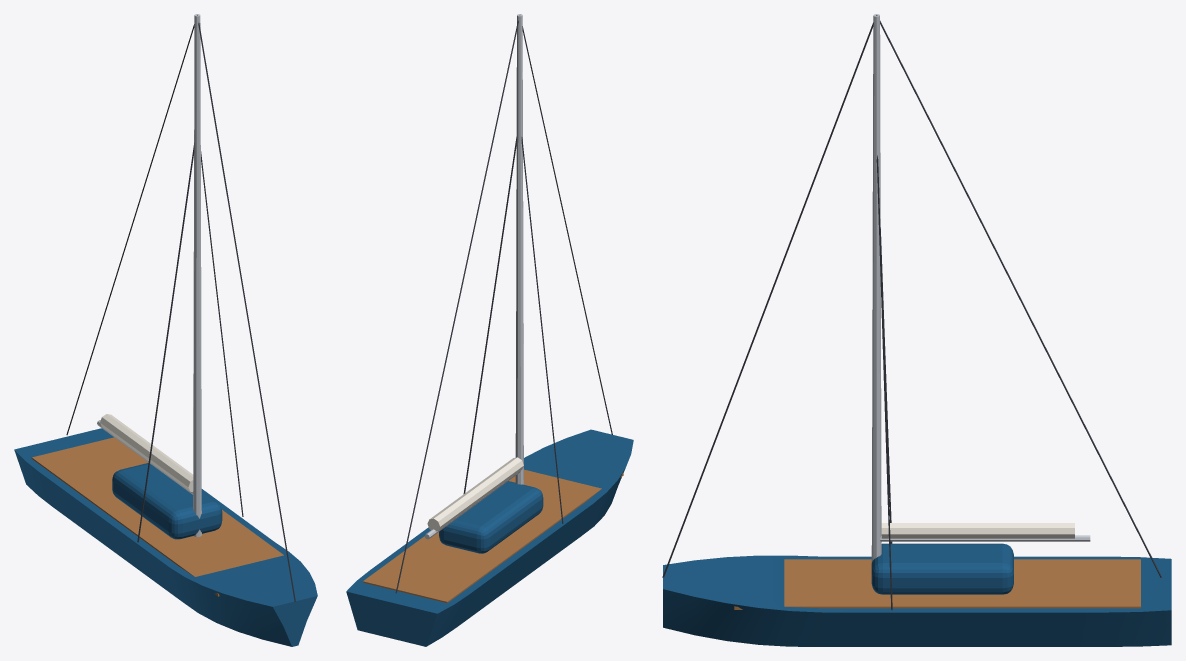
The model's file is sail_yacht_b.glb.
The picture shows the model from 3 angles, left to right: view 1: azimuth 30°, elevation 25°; view 2: azimuth 150°, elevation 25°; view 3: azimuth 270°, elevation 25°; orthographic projection. The views are drawn at different scales.
Visible parts, largest first — view 1: sailyacht; view 2: sailyacht; view 3: sailyacht.
Part boxes in pixels (x1,y1,x2,y2): sailyacht: (14, 14, 317, 646); sailyacht: (346, 14, 633, 646); sailyacht: (662, 14, 1171, 646).
Size of the model in its own units: 4.73 by 23.86 by 18.03.
